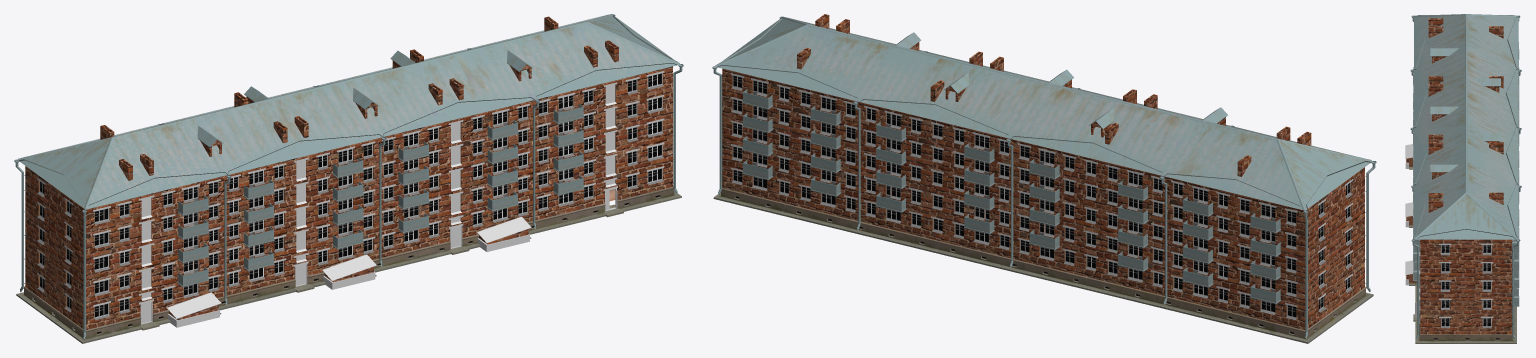
File: DomKrasnKirpichObjExpo.fbx
3 views of the same model, side by side, from view 1: azimuth 30°, elevation 25°; view 2: azimuth 150°, elevation 25°; view 3: azimuth 270°, elevation 25° (orthographic). The views are drawn at different scales.
Visible parts, largest first — view 1: KrasnKirpichWall, Krovla, WindGross, Balkon, CokolOtmostka, WindBalkon, Peremichka, WindEntrances, KrovlaSpuskaPodwal, Blocks, DoorParad; view 2: KrasnKirpichWall, Krovla, WindGross, Balkon, CokolOtmostka, WindBalkon, Peremichka; view 3: Krovla, KrasnKirpichWall, CokolOtmostka, WindGross, Balkon, KrovlaSpuskaPodwal, Peremichka, DoorSpuskaPodvall.
Part boxes in pixels (bbox=[...]): KrasnKirpichWall: bbox=[25, 16, 672, 329]; Krovla: bbox=[14, 14, 683, 338]; WindGross: bbox=[37, 73, 663, 319]; Balkon: bbox=[178, 104, 584, 286]; CokolOtmostka: bbox=[16, 186, 681, 343]; WindBalkon: bbox=[183, 95, 574, 274]; Peremichka: bbox=[37, 71, 664, 306]; WindEntrances: bbox=[141, 84, 616, 300]; KrovlaSpuskaPodwal: bbox=[167, 216, 531, 318]; Blocks: bbox=[167, 234, 529, 327]; DoorParad: bbox=[140, 187, 617, 324]; KrasnKirpichWall: bbox=[722, 14, 1364, 329]; Krovla: bbox=[712, 16, 1376, 338]; WindGross: bbox=[731, 75, 1352, 320]; Balkon: bbox=[742, 89, 1280, 303]; CokolOtmostka: bbox=[713, 188, 1373, 343]; WindBalkon: bbox=[752, 80, 1275, 292]; Peremichka: bbox=[730, 73, 1352, 307]; Krovla: bbox=[1410, 14, 1521, 339]; KrasnKirpichWall: bbox=[1406, 18, 1512, 334]; CokolOtmostka: bbox=[1409, 167, 1516, 343]; WindGross: bbox=[1419, 239, 1512, 328]; Balkon: bbox=[1413, 42, 1519, 306]; KrovlaSpuskaPodwal: bbox=[1405, 144, 1413, 275]; Peremichka: bbox=[1439, 243, 1493, 317]; DoorSpuskaPodvall: bbox=[1408, 158, 1415, 283].
Size of the model in its own units: 20339 by 5429 by 4432.
10 materials, 5 textured.
